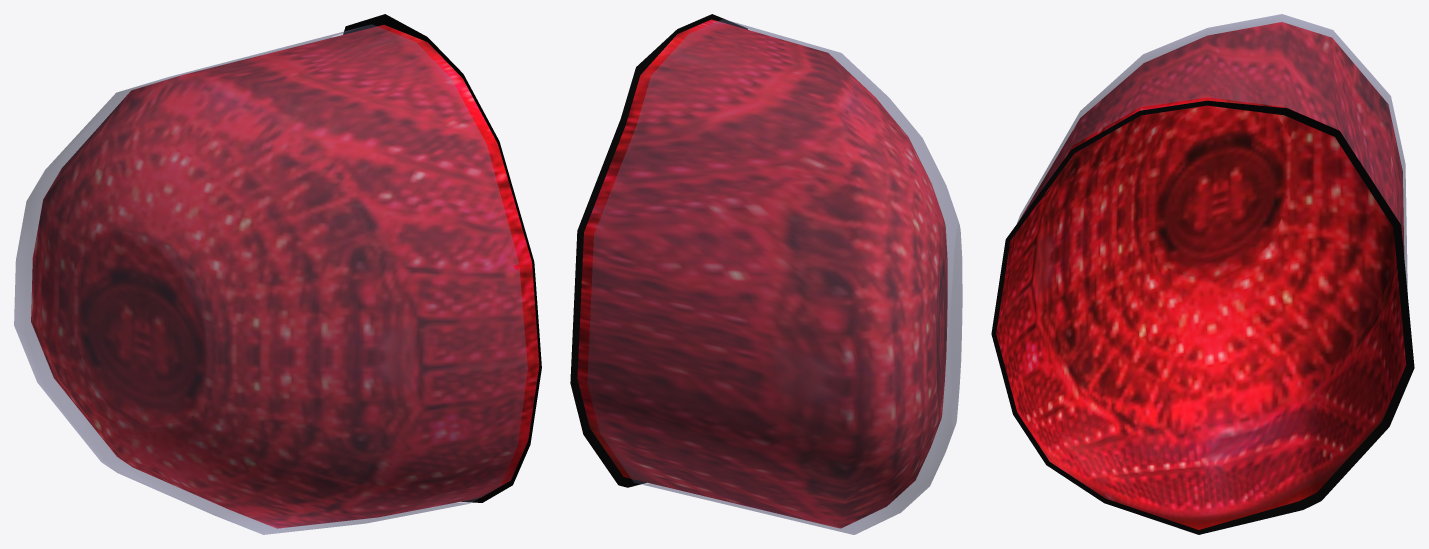
3 views of the same model, side by side, from view 1: azimuth 30°, elevation 25°; view 2: azimuth 150°, elevation 25°; view 3: azimuth 270°, elevation 25° (orthographic). The views are drawn at different scales.
Visible parts, largest first — view 1: U236_17_541C_R_U236_17_541C_R_1_DTaSI, U236_17_541C_R_2_N_U236_17_541C_R, U236_17_541C_R_U236_17_541C_R_3_D; view 2: U236_17_541C_R_U236_17_541C_R_1_DTaSI, U236_17_541C_R_2_N_U236_17_541C_R, U236_17_541C_R_U236_17_541C_R_3_D; view 3: U236_17_541C_R_2_N_U236_17_541C_R, U236_17_541C_R_U236_17_541C_R_1_DTaSI, U236_17_541C_R_U236_17_541C_R_3_D.
Part boxes in pixels (left/top/right/bottom): U236_17_541C_R_U236_17_541C_R_1_DTaSI: left=14, top=24, right=527, bottom=534; U236_17_541C_R_2_N_U236_17_541C_R: left=31, top=24, right=539, bottom=528; U236_17_541C_R_U236_17_541C_R_3_D: left=343, top=14, right=541, bottom=502; U236_17_541C_R_U236_17_541C_R_1_DTaSI: left=587, top=19, right=962, bottom=534; U236_17_541C_R_2_N_U236_17_541C_R: left=577, top=19, right=947, bottom=528; U236_17_541C_R_U236_17_541C_R_3_D: left=570, top=14, right=747, bottom=487; U236_17_541C_R_2_N_U236_17_541C_R: left=996, top=22, right=1406, bottom=529; U236_17_541C_R_U236_17_541C_R_1_DTaSI: left=1017, top=14, right=1407, bottom=294; U236_17_541C_R_U236_17_541C_R_3_D: left=991, top=100, right=1414, bottom=534.
Size of the model in its own units: 10.79 by 14.25 by 12.58.
